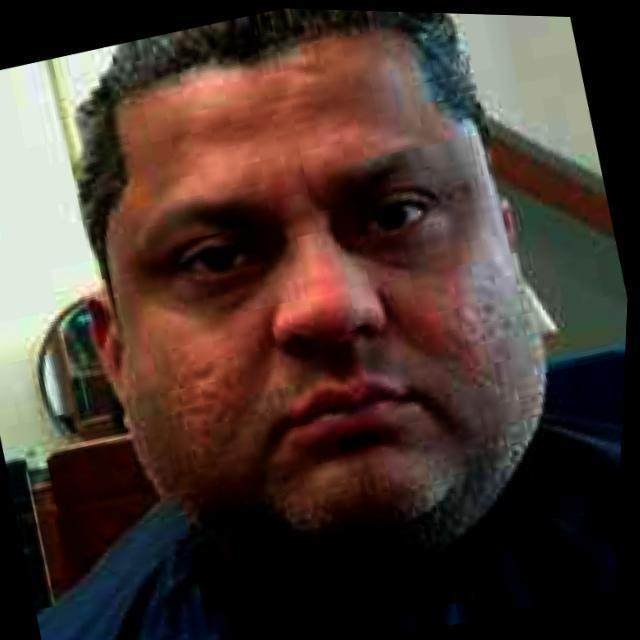puffy_eyes: (166, 260, 276, 317), (353, 216, 450, 266)
